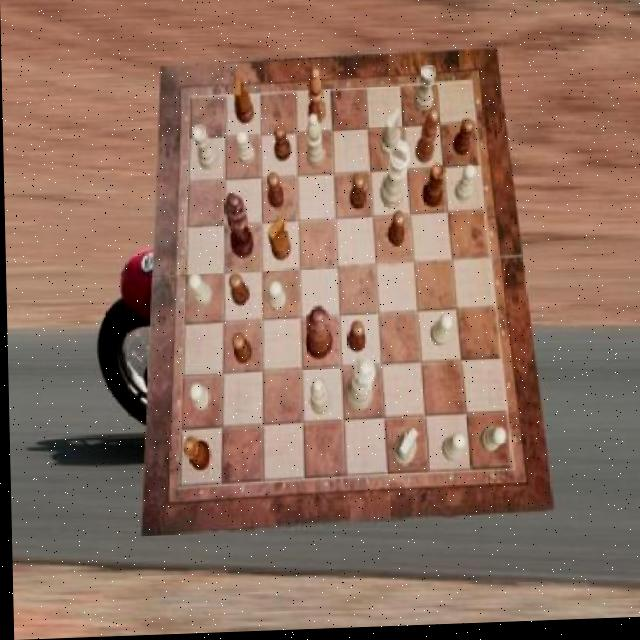bishop: (414, 112, 439, 167), (307, 69, 325, 127)
black-bishop: (224, 194, 252, 261)
black-king: (265, 216, 289, 263), (232, 76, 253, 125)
black-knight: (451, 122, 474, 160), (229, 334, 250, 367), (266, 173, 284, 210), (271, 127, 289, 164), (228, 274, 248, 307), (386, 213, 404, 249), (348, 177, 365, 212), (347, 323, 365, 355)
black-pawn: (303, 308, 331, 362)
black-queen: (421, 167, 445, 212), (180, 437, 208, 473)
black-rook: (305, 115, 325, 170), (307, 380, 329, 417)
white-bishop: (378, 142, 410, 210)
white-king: (378, 113, 402, 161), (389, 431, 416, 470)
white-knight: (186, 274, 210, 309), (453, 168, 475, 206), (427, 318, 451, 351), (477, 430, 504, 457), (439, 437, 464, 466), (236, 131, 254, 166), (187, 385, 209, 413), (267, 282, 285, 314)
white-pawn: (342, 359, 374, 414)
white-queen: (190, 126, 215, 172), (412, 67, 436, 114)
